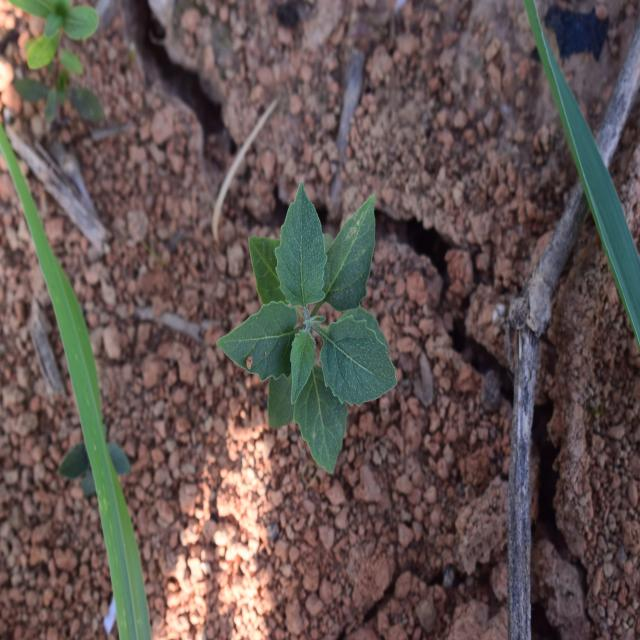Black_nightshade: (225, 188, 399, 451)
